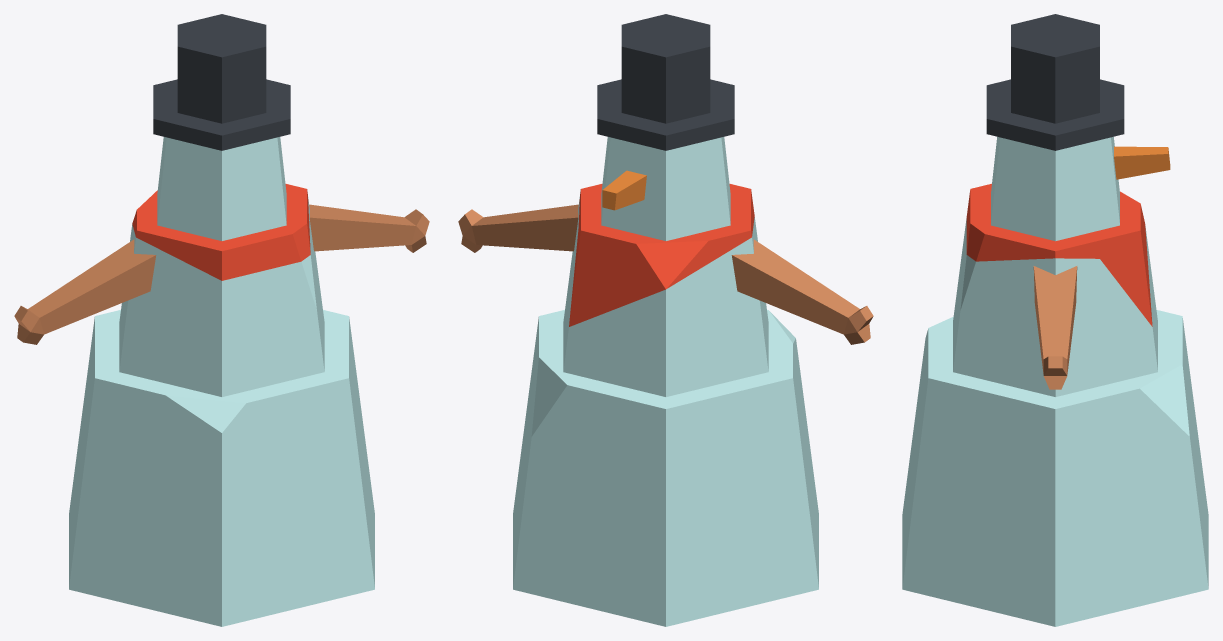
File: snowmanFancy.fbx
3 views of the same model, side by side, from view 1: azimuth 30°, elevation 25°; view 2: azimuth 150°, elevation 25°; view 3: azimuth 270°, elevation 25° (orthographic).
Visible parts, largest first — view 1: snowmanFancy; view 2: snowmanFancy; view 3: snowmanFancy.
Part boxes in pixels (x1=…): snowmanFancy: x1=14, y1=14, x2=429, y2=626; snowmanFancy: x1=458, y1=14, x2=873, y2=626; snowmanFancy: x1=902, y1=14, x2=1208, y2=626.
Size of the model in its own units: 6.93 by 8.38 by 4.5.
